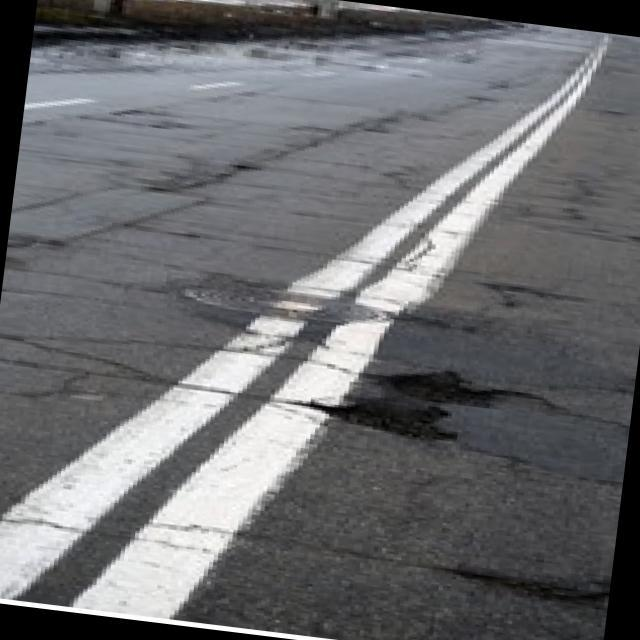Pothole: (294, 385, 464, 447), (368, 361, 504, 412), (232, 162, 258, 172)
